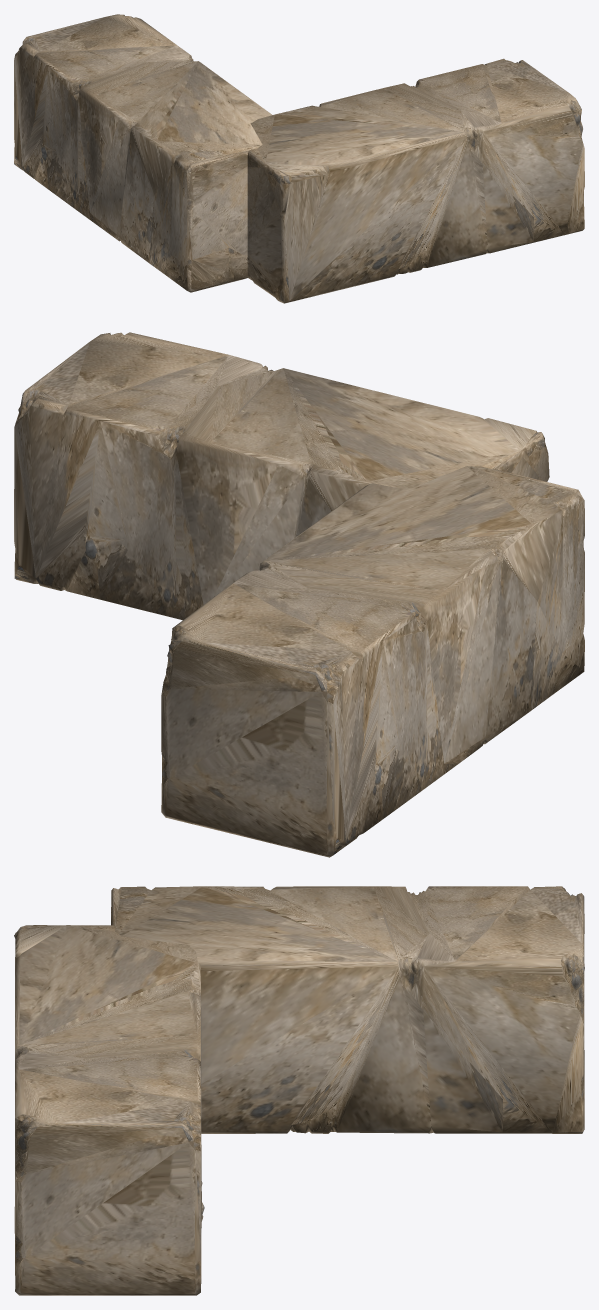
File: shallow-irrigation-bank-corner-90.glb
3 renders of one model, top to bottom at view 1: azimuth 30°, elevation 25°; view 2: azimuth 150°, elevation 25°; view 3: azimuth 270°, elevation 25°, orthographic. The views are drawn at different scales.
Parts seen in each view (by area): view 1: shallow-irrigation-bank-corner-90; view 2: shallow-irrigation-bank-corner-90; view 3: shallow-irrigation-bank-corner-90.
Boxes of the visible parts, left/top/right/bottom form: shallow-irrigation-bank-corner-90: left=14, top=14, right=584, bottom=303; shallow-irrigation-bank-corner-90: left=14, top=332, right=584, bottom=857; shallow-irrigation-bank-corner-90: left=14, top=886, right=584, bottom=1295.
Size of the model in its own units: 1.2 by 0.4005 by 1.2.
1 material, 1 textured.
